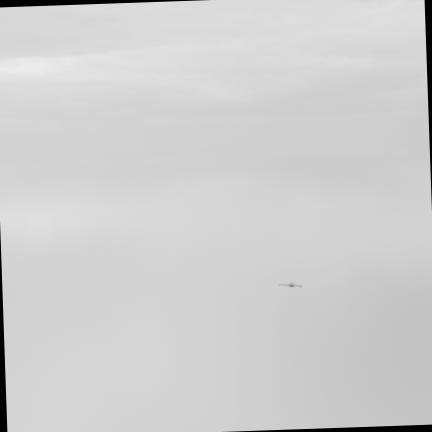Shahed: (278, 281, 304, 289)
